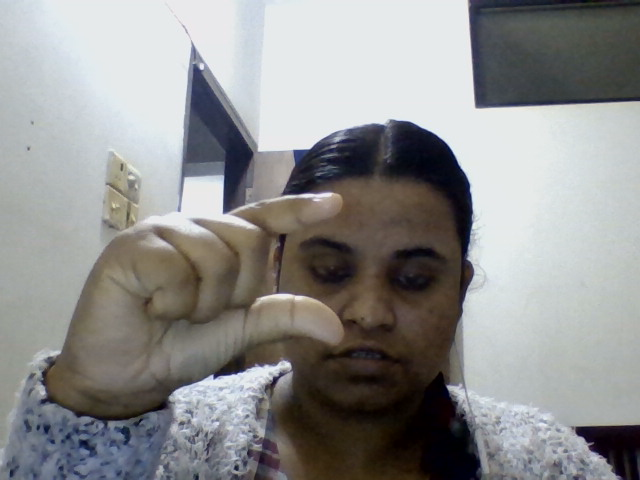No: (34, 178, 401, 406)
